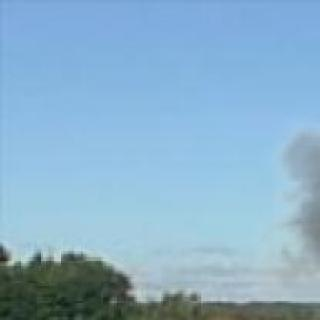smoke: (299, 88, 320, 320)
